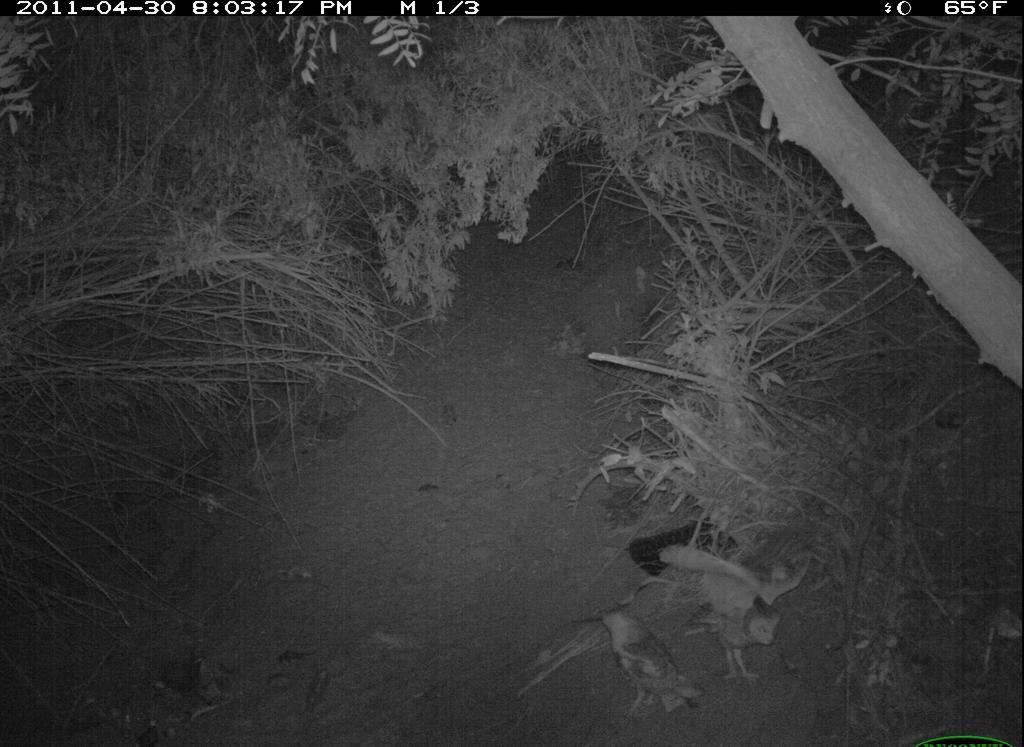bird: (660, 538, 813, 687), (587, 603, 703, 711)
